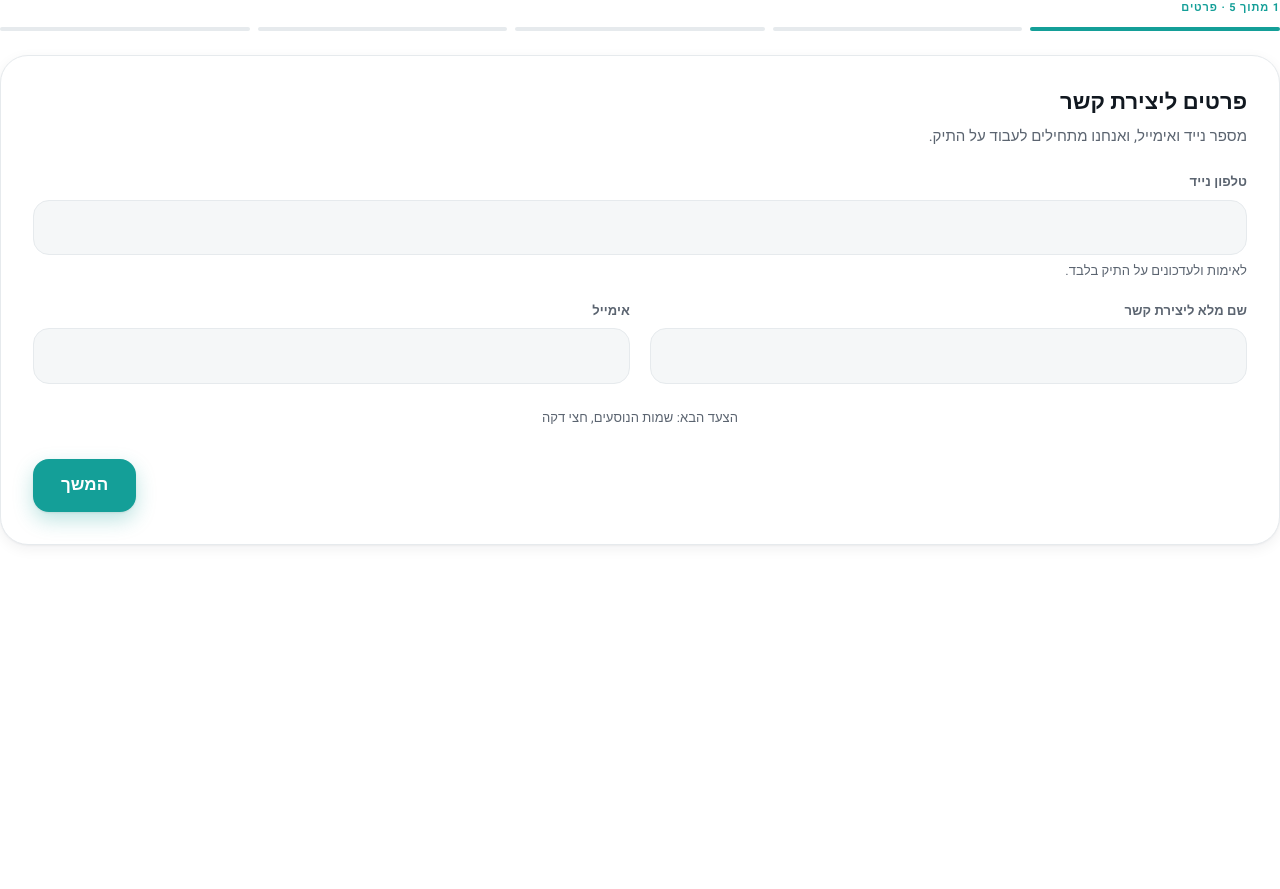
Scenario: moving through the steps › will not leave the passengers step empty
Type "Noam Hasson" into the field labelled "שם מלא ליצירת קשר" at (948, 356), box [650,328,1247,384]
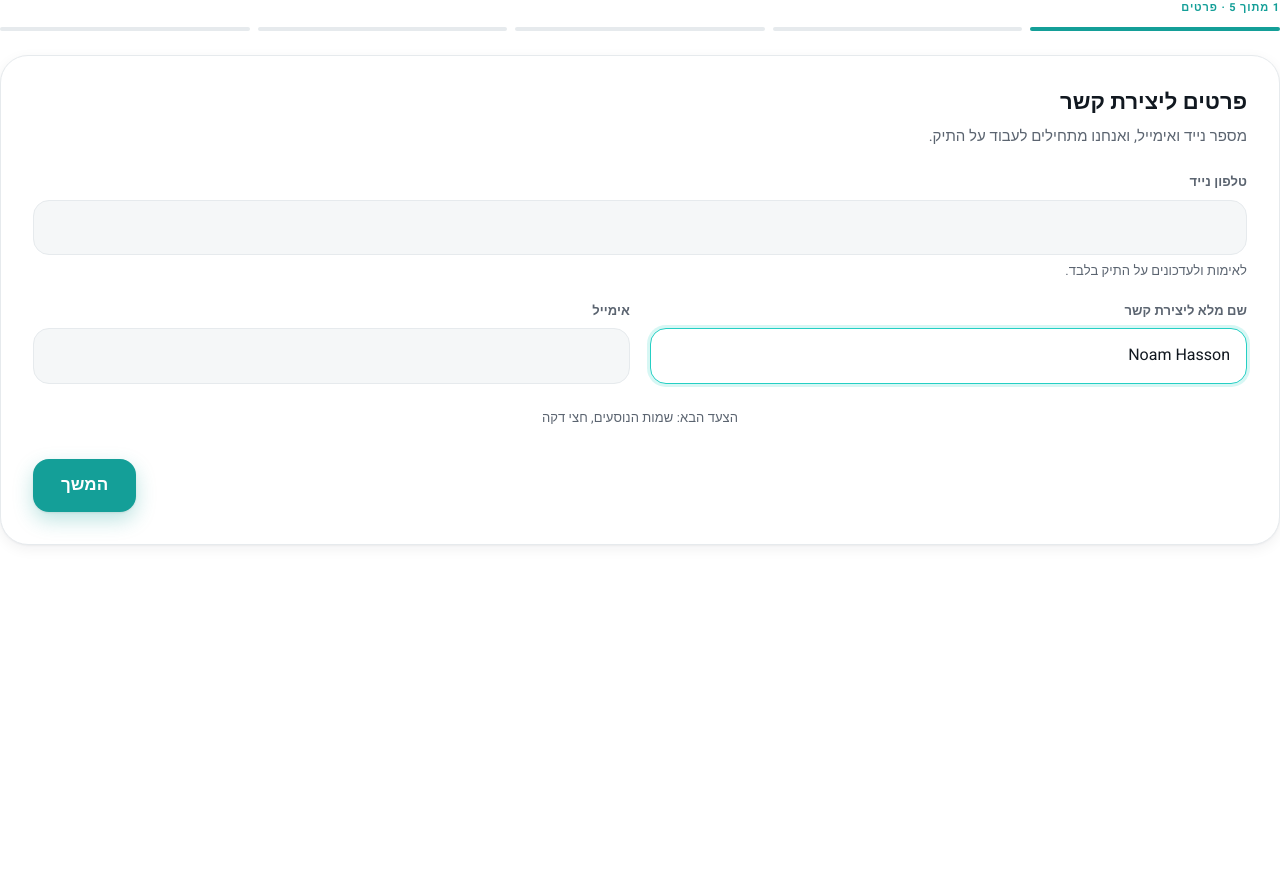
Type "noam@example.com" into the field labelled "אימייל" at (332, 356), box [33,328,630,384]
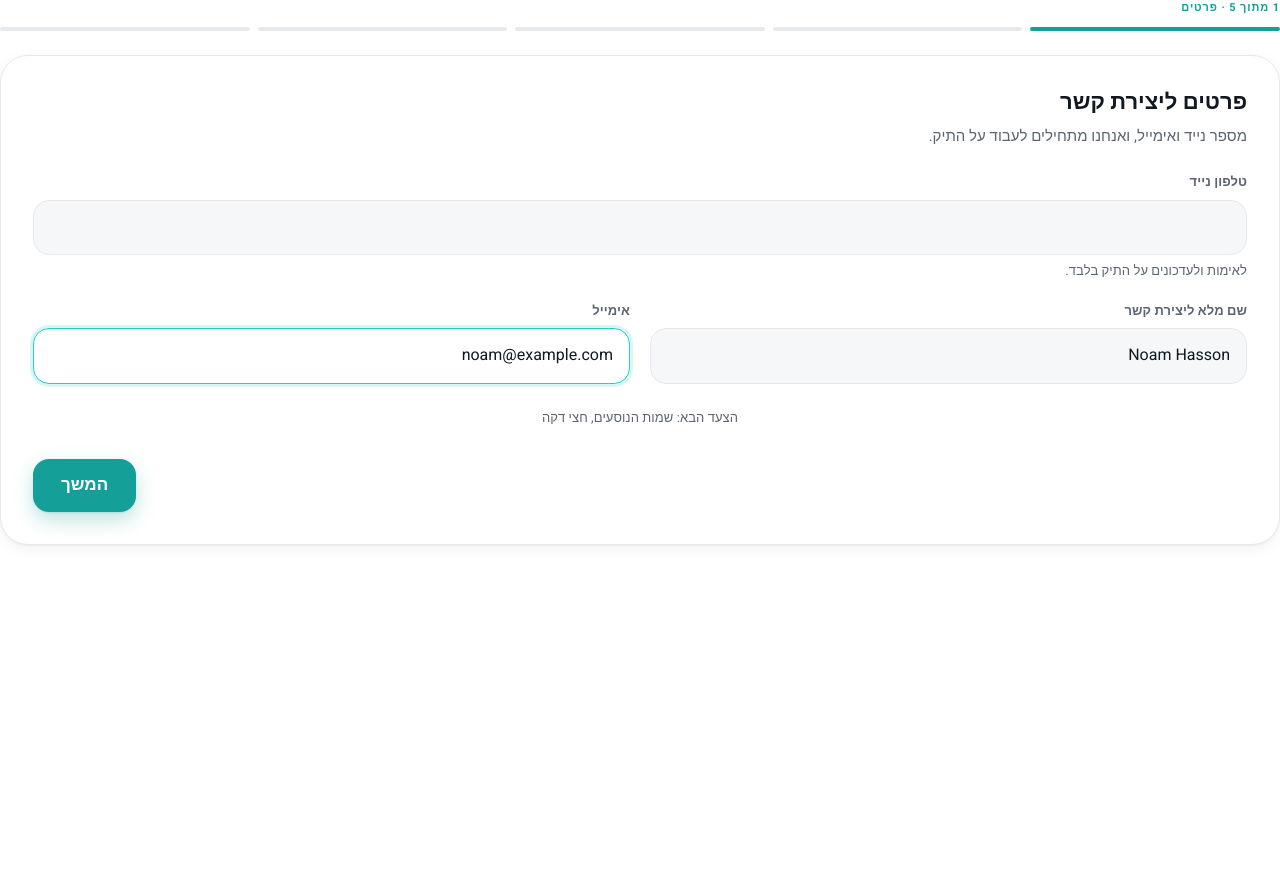
Click the button "המשך" at (85, 486), box [33,459,136,512]
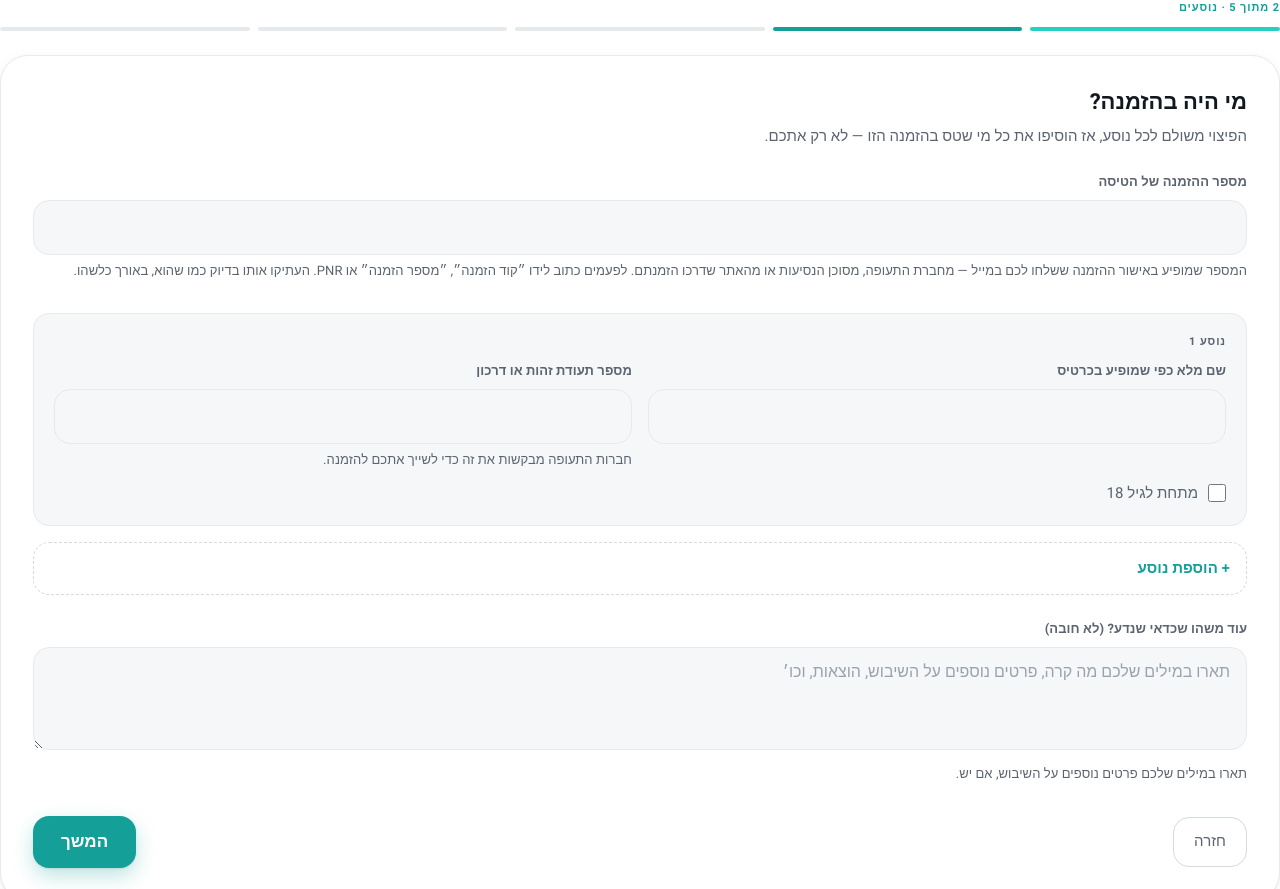
Click the button "המשך" at (85, 842), box [33,816,136,868]
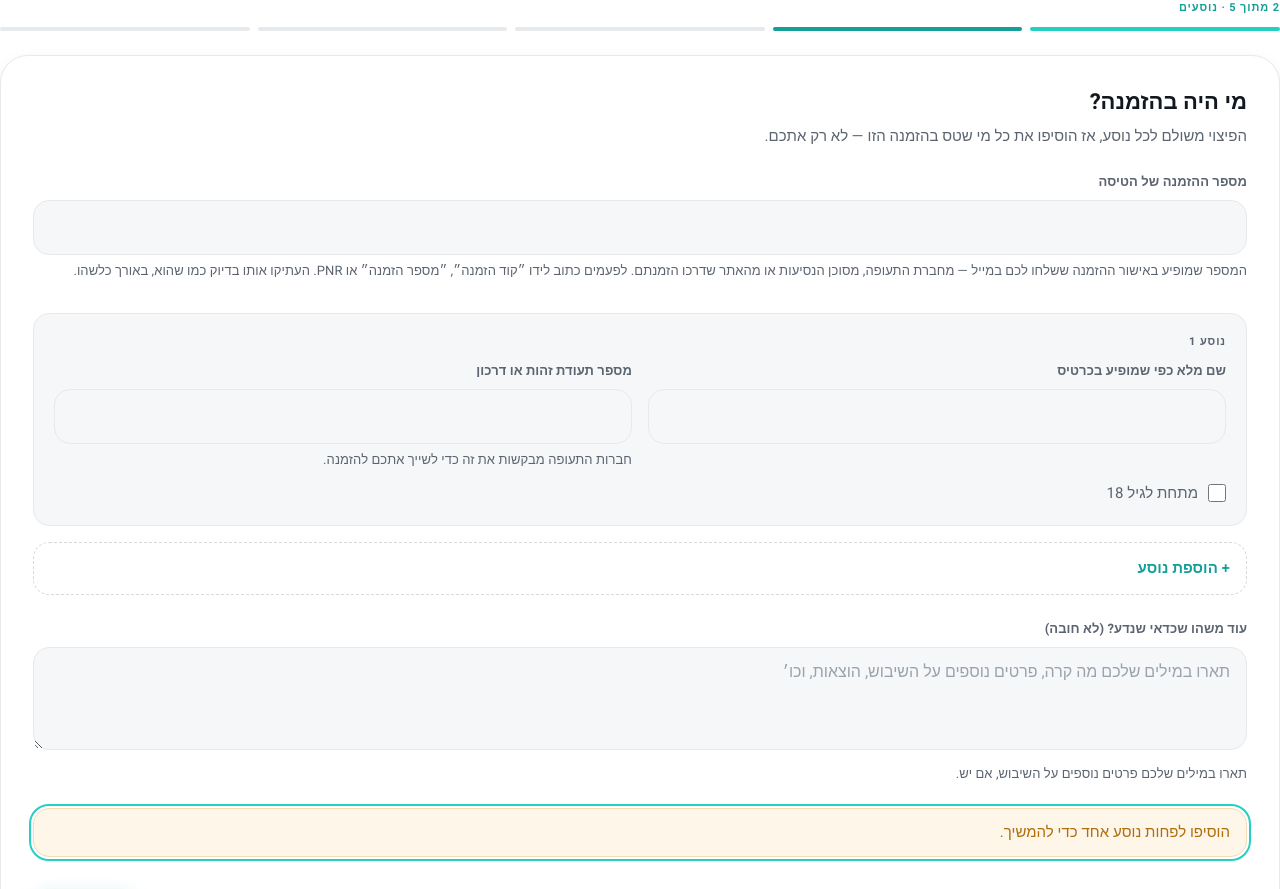
Now the text "הוסיפו לפחות נוסע אחד כדי להמשיך." is shown, box [33,808,1247,857]
